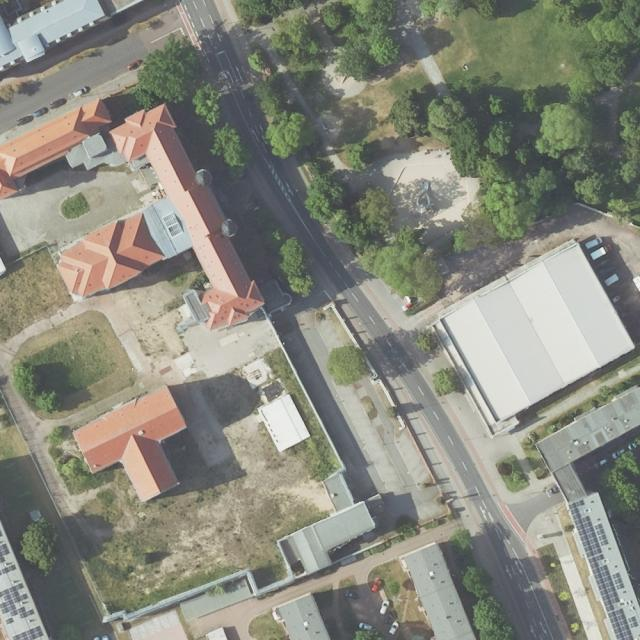PV: (568, 500, 639, 640), (0, 582, 35, 626), (11, 625, 44, 640), (0, 541, 11, 563), (0, 564, 17, 575)
